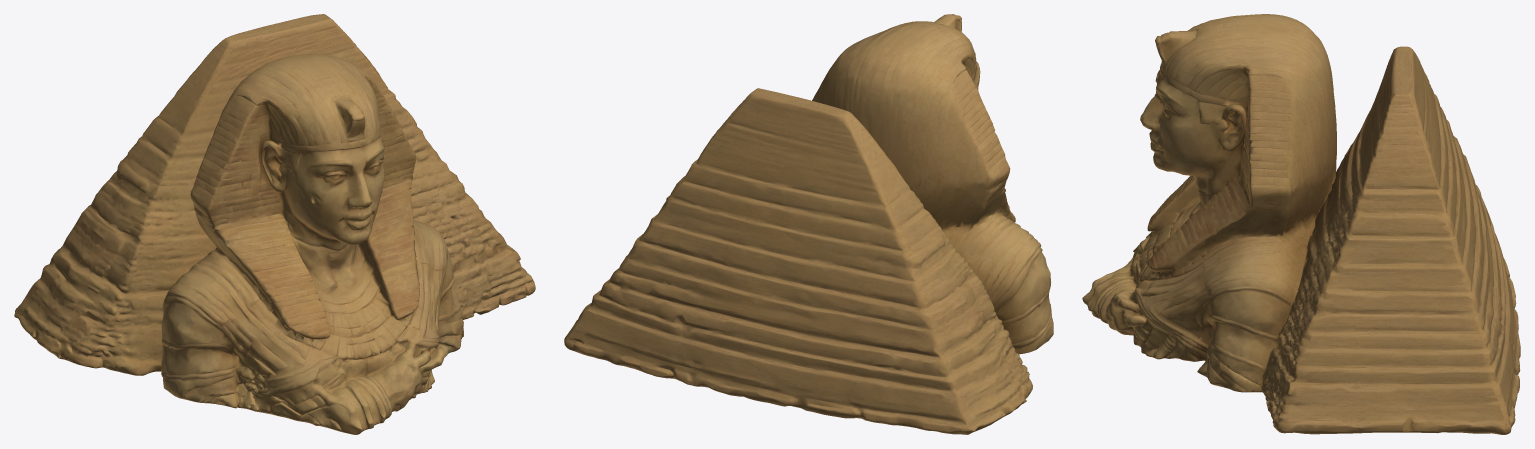
The model's file is source.glb.
3 views of the same model, side by side, from view 1: azimuth 30°, elevation 25°; view 2: azimuth 150°, elevation 25°; view 3: azimuth 270°, elevation 25° (orthographic). The views are drawn at different scales.
Parts seen in each view (by area): view 1: tripo_node_4ecabad7-4b23-4f93-8a09-266d89f9a777; view 2: tripo_node_4ecabad7-4b23-4f93-8a09-266d89f9a777; view 3: tripo_node_4ecabad7-4b23-4f93-8a09-266d89f9a777.
Part boxes in pixels (x1=…): tripo_node_4ecabad7-4b23-4f93-8a09-266d89f9a777: x1=14, y1=14, x2=535, y2=434; tripo_node_4ecabad7-4b23-4f93-8a09-266d89f9a777: x1=564, y1=14, x2=1053, y2=434; tripo_node_4ecabad7-4b23-4f93-8a09-266d89f9a777: x1=1082, y1=14, x2=1520, y2=434.
Bounding box in the file's own units: 0.9807 × 0.6512 × 0.8621.
1 material, 1 textured.
